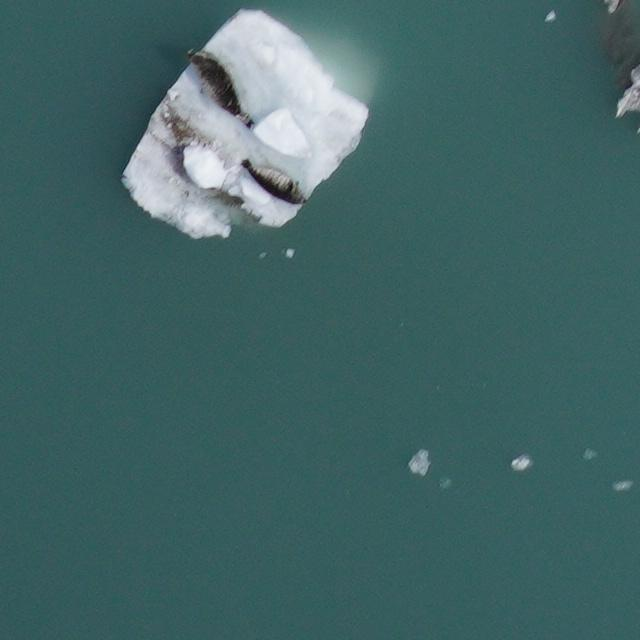seal: (186, 51, 253, 128), (240, 159, 306, 204)
